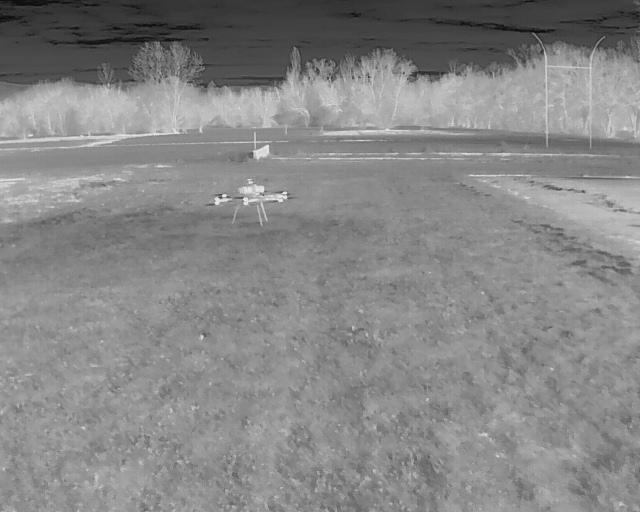drone: (205, 170, 294, 224)
